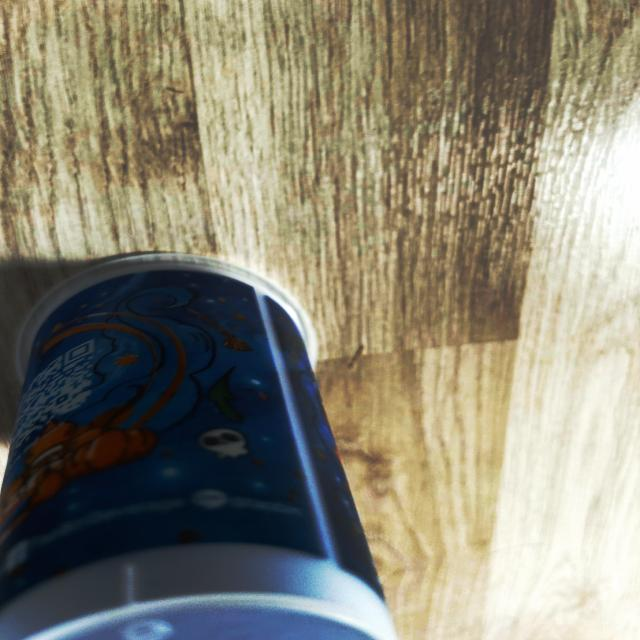Plastic Cup: (0, 254, 397, 640)
